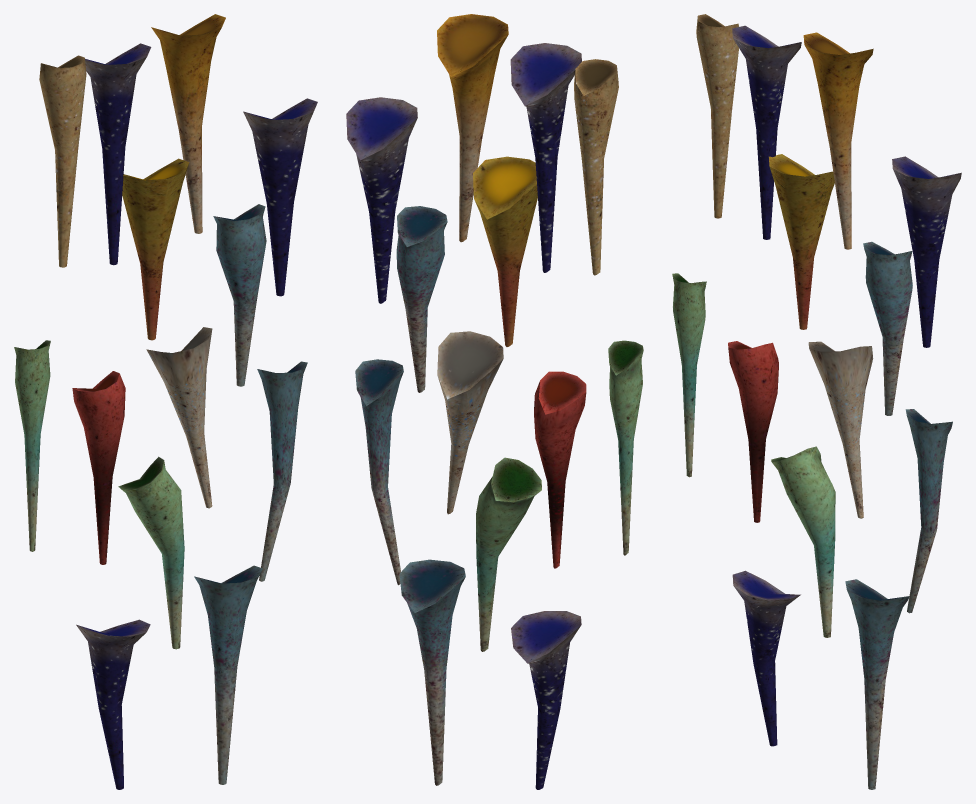
File: ScrollDecorFish01.fbx
3 views of the same model, side by side, from view 1: azimuth 30°, elevation 25°; view 2: azimuth 150°, elevation 25°; view 3: azimuth 330°, elevation 25° (orthographic). The views are drawn at different scales.
Visible parts, largest first — view 1: ScrollDecorFish01; view 2: ScrollDecorFish01; view 3: ScrollDecorFish01.
Part boxes in pixels (x1,y1,x2,y2): ScrollDecorFish01: (14,14,317,789); ScrollDecorFish01: (346,14,643,789); ScrollDecorFish01: (672,14,961,789).
Bounding box in the file's own units: 76.73 × 192 × 18.45.
